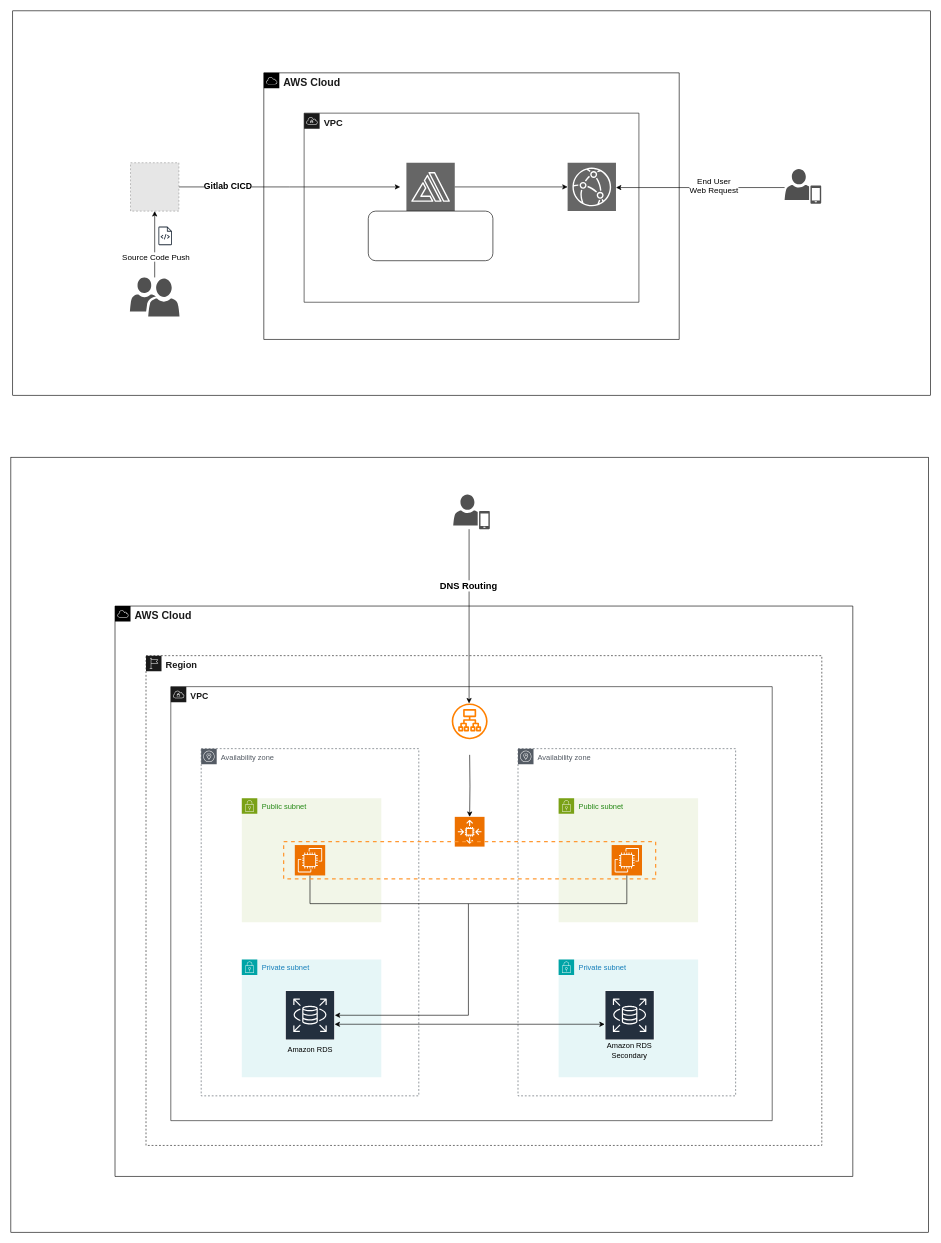
This 941x1243 diagram has some shape labels left out. Grey dashed boxes stand in for pictures. Each missing label, with the centre of its shape:
"AutoScalingGroup" belongs at (469,831).
"Developers" belongs at (154,296).
"Load Balancer" belongs at (469,721).
"NextJS Application" belongs at (430,235).
